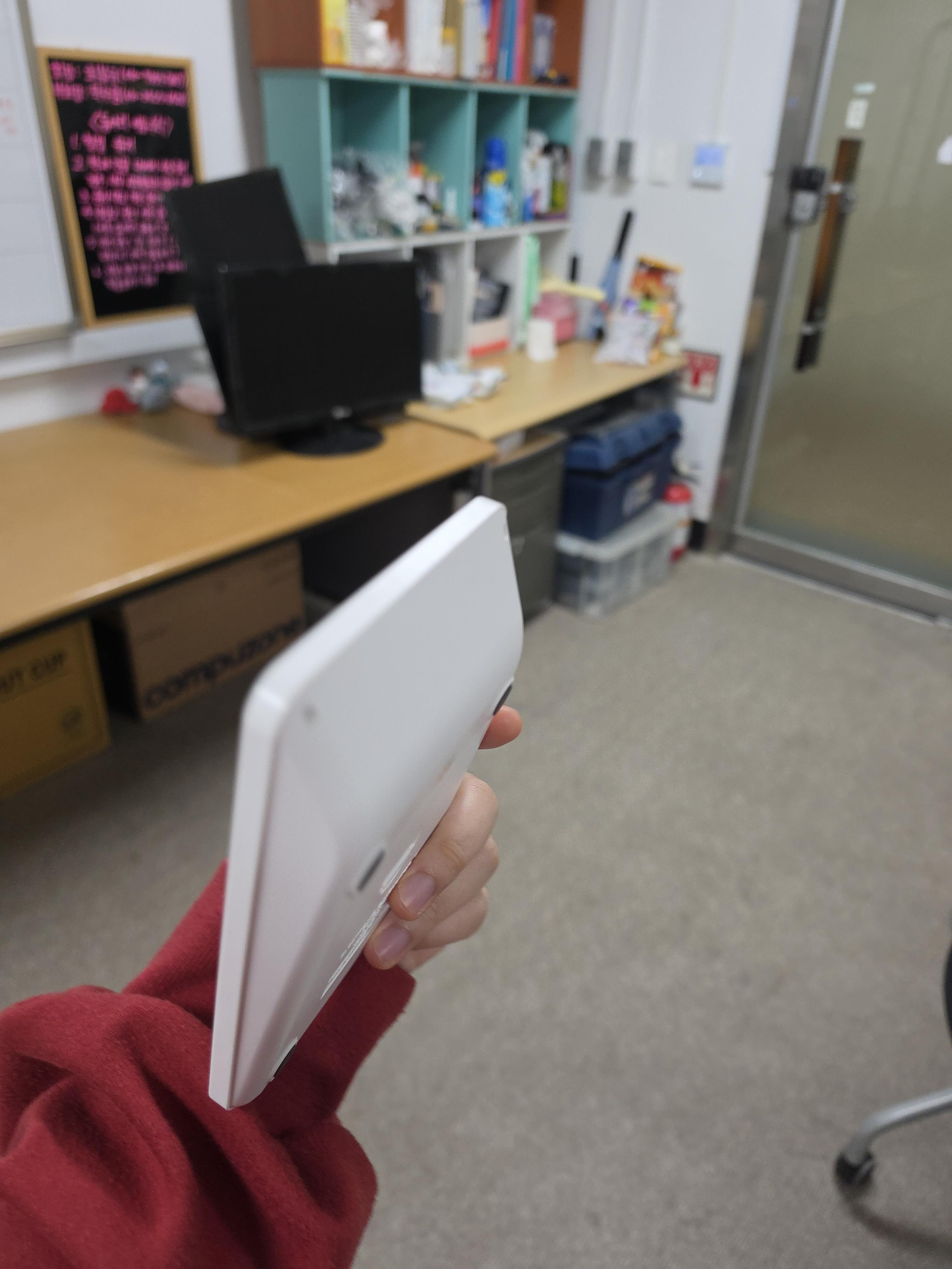calculator: (208, 496, 525, 1111)
